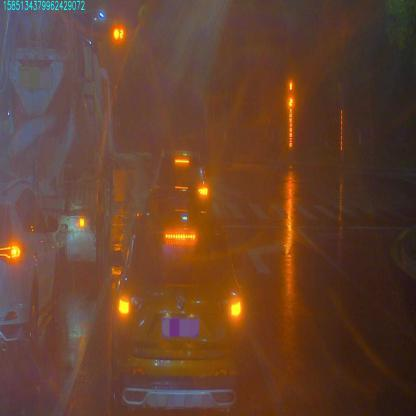traffic-light: (110, 24, 127, 41)
